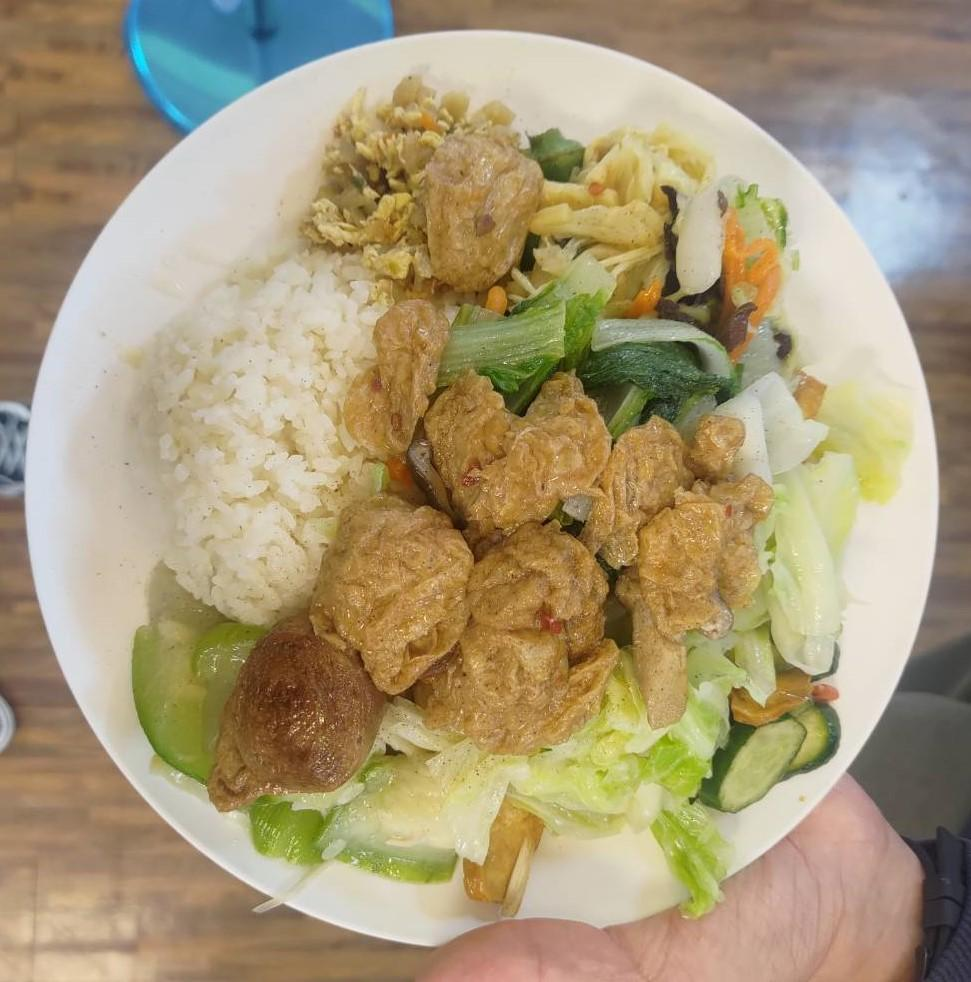big fried chicken leg: (30, 10, 949, 957)
big herbal chicken leg: (138, 248, 412, 626)
braised fish fillet: (213, 398, 752, 813), (438, 316, 858, 823), (312, 86, 783, 346), (116, 620, 458, 897)
